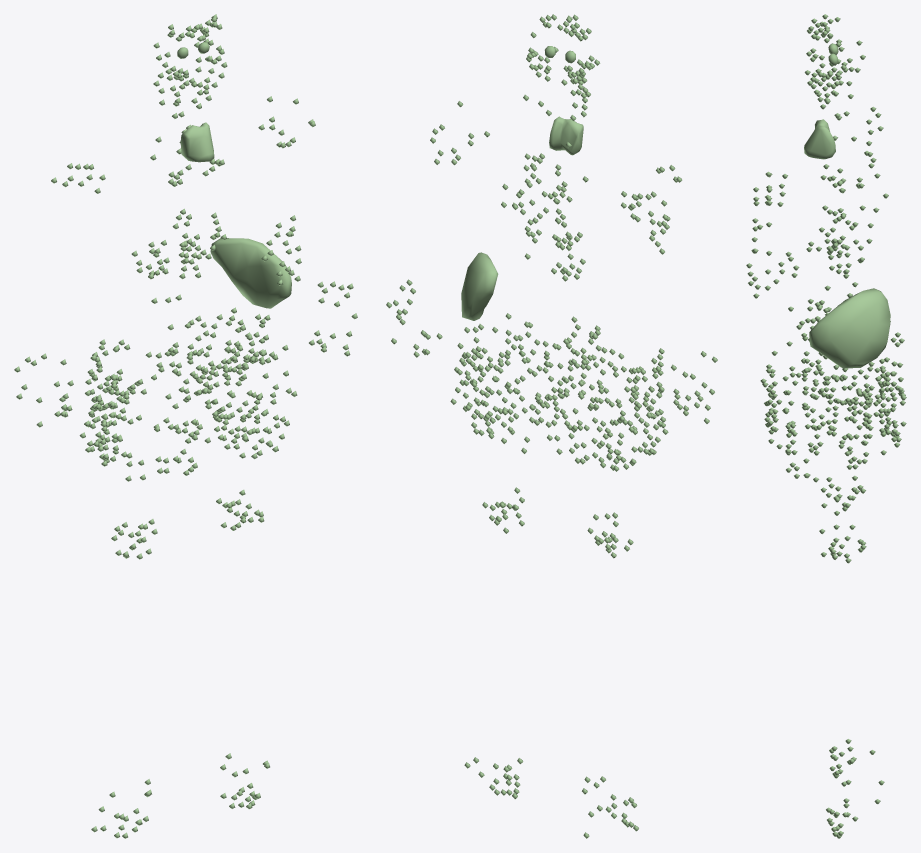
The model's file is pediatric_adolescent_male.lymphatic.LOD2.glb.
The picture shows the model from 3 angles, left to right: view 1: azimuth 30°, elevation 25°; view 2: azimuth 150°, elevation 25°; view 3: azimuth 270°, elevation 25°; orthographic projection. The views are drawn at different scales.
Visible parts, largest first — view 1: PEDIATRIC.ADOLESCENT.MALE.LYMPHATIC.LYMPHATIC_NODES_TRUNK, PEDIATRIC.ADOLESCENT.MALE.LYMPHATIC.SPLEEN, PEDIATRIC.ADOLESCENT.MALE.LYMPHATIC.LYMPHATIC_NODES_THORACIC, PEDIATRIC.ADOLESCENT.MALE.LYMPHATIC.LYMPHATIC_NODES_ET, PEDIATRIC.ADOLESCENT.MALE.LYMPHATIC.THYMUS, PEDIATRIC.ADOLESCENT.MALE.LYMPHATIC.LYMPHATIC_NODES_ARMS, PEDIATRIC.ADOLESCENT.MALE.LYMPHATIC.LYMPHATIC_NODES_LEGS; view 2: PEDIATRIC.ADOLESCENT.MALE.LYMPHATIC.LYMPHATIC_NODES_TRUNK, PEDIATRIC.ADOLESCENT.MALE.LYMPHATIC.SPLEEN, PEDIATRIC.ADOLESCENT.MALE.LYMPHATIC.LYMPHATIC_NODES_THORACIC, PEDIATRIC.ADOLESCENT.MALE.LYMPHATIC.LYMPHATIC_NODES_ET, PEDIATRIC.ADOLESCENT.MALE.LYMPHATIC.LYMPHATIC_NODES_LEGS, PEDIATRIC.ADOLESCENT.MALE.LYMPHATIC.THYMUS, PEDIATRIC.ADOLESCENT.MALE.LYMPHATIC.LYMPHATIC_NODES_ARMS; view 3: PEDIATRIC.ADOLESCENT.MALE.LYMPHATIC.LYMPHATIC_NODES_TRUNK, PEDIATRIC.ADOLESCENT.MALE.LYMPHATIC.SPLEEN, PEDIATRIC.ADOLESCENT.MALE.LYMPHATIC.LYMPHATIC_NODES_THORACIC, PEDIATRIC.ADOLESCENT.MALE.LYMPHATIC.LYMPHATIC_NODES_ET, PEDIATRIC.ADOLESCENT.MALE.LYMPHATIC.THYMUS, PEDIATRIC.ADOLESCENT.MALE.LYMPHATIC.LYMPHATIC_NODES_LEGS, PEDIATRIC.ADOLESCENT.MALE.LYMPHATIC.LYMPHATIC_NODES_ARMS, PEDIATRIC.ADOLESCENT.MALE.LYMPHATIC.LYMPHATIC_NODES_HEAD.
Boxes of the visible parts, x1,y1,x2,y2 form: PEDIATRIC.ADOLESCENT.MALE.LYMPHATIC.LYMPHATIC_NODES_TRUNK: (51,96,315,559); PEDIATRIC.ADOLESCENT.MALE.LYMPHATIC.SPLEEN: (210,238,291,308); PEDIATRIC.ADOLESCENT.MALE.LYMPHATIC.LYMPHATIC_NODES_THORACIC: (148,124,226,279); PEDIATRIC.ADOLESCENT.MALE.LYMPHATIC.LYMPHATIC_NODES_ET: (153,14,227,87); PEDIATRIC.ADOLESCENT.MALE.LYMPHATIC.THYMUS: (180,122,214,162); PEDIATRIC.ADOLESCENT.MALE.LYMPHATIC.LYMPHATIC_NODES_ARMS: (14,281,357,427); PEDIATRIC.ADOLESCENT.MALE.LYMPHATIC.LYMPHATIC_NODES_LEGS: (91,753,269,838); PEDIATRIC.ADOLESCENT.MALE.LYMPHATIC.LYMPHATIC_NODES_TRUNK: (430,101,682,558); PEDIATRIC.ADOLESCENT.MALE.LYMPHATIC.SPLEEN: (461,252,498,320); PEDIATRIC.ADOLESCENT.MALE.LYMPHATIC.LYMPHATIC_NODES_THORACIC: (523,142,588,281); PEDIATRIC.ADOLESCENT.MALE.LYMPHATIC.LYMPHATIC_NODES_ET: (526,14,600,84); PEDIATRIC.ADOLESCENT.MALE.LYMPHATIC.LYMPHATIC_NODES_LEGS: (464,757,638,838); PEDIATRIC.ADOLESCENT.MALE.LYMPHATIC.THYMUS: (549,116,583,155); PEDIATRIC.ADOLESCENT.MALE.LYMPHATIC.LYMPHATIC_NODES_ARMS: (386,279,717,423); PEDIATRIC.ADOLESCENT.MALE.LYMPHATIC.LYMPHATIC_NODES_TRUNK: (746,84,906,563); PEDIATRIC.ADOLESCENT.MALE.LYMPHATIC.SPLEEN: (809,288,890,368); PEDIATRIC.ADOLESCENT.MALE.LYMPHATIC.LYMPHATIC_NODES_THORACIC: (806,135,880,274); PEDIATRIC.ADOLESCENT.MALE.LYMPHATIC.LYMPHATIC_NODES_ET: (804,14,865,87); PEDIATRIC.ADOLESCENT.MALE.LYMPHATIC.THYMUS: (804,119,835,159); PEDIATRIC.ADOLESCENT.MALE.LYMPHATIC.LYMPHATIC_NODES_LEGS: (826,739,884,838); PEDIATRIC.ADOLESCENT.MALE.LYMPHATIC.LYMPHATIC_NODES_ARMS: (812,245,868,456); PEDIATRIC.ADOLESCENT.MALE.LYMPHATIC.LYMPHATIC_NODES_HEAD: (807,62,853,120).
Bounding box in the file's own units: 0.4765 × 1.11 × 0.2052.
